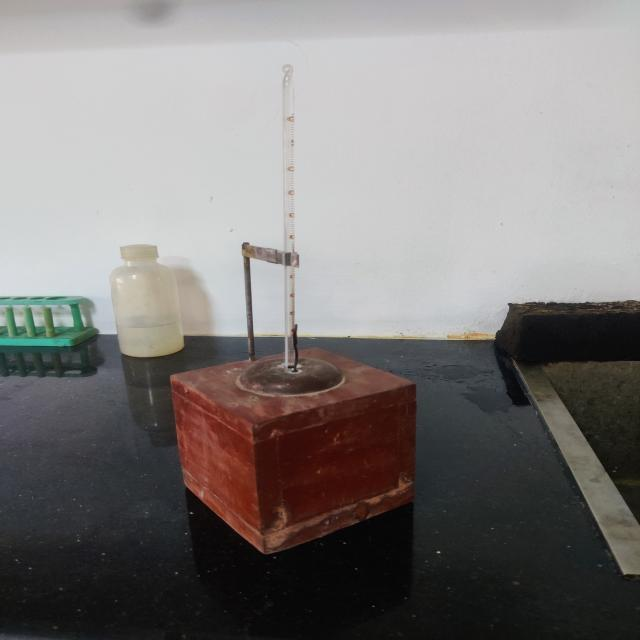Calorimeter: (133, 39, 459, 578)
